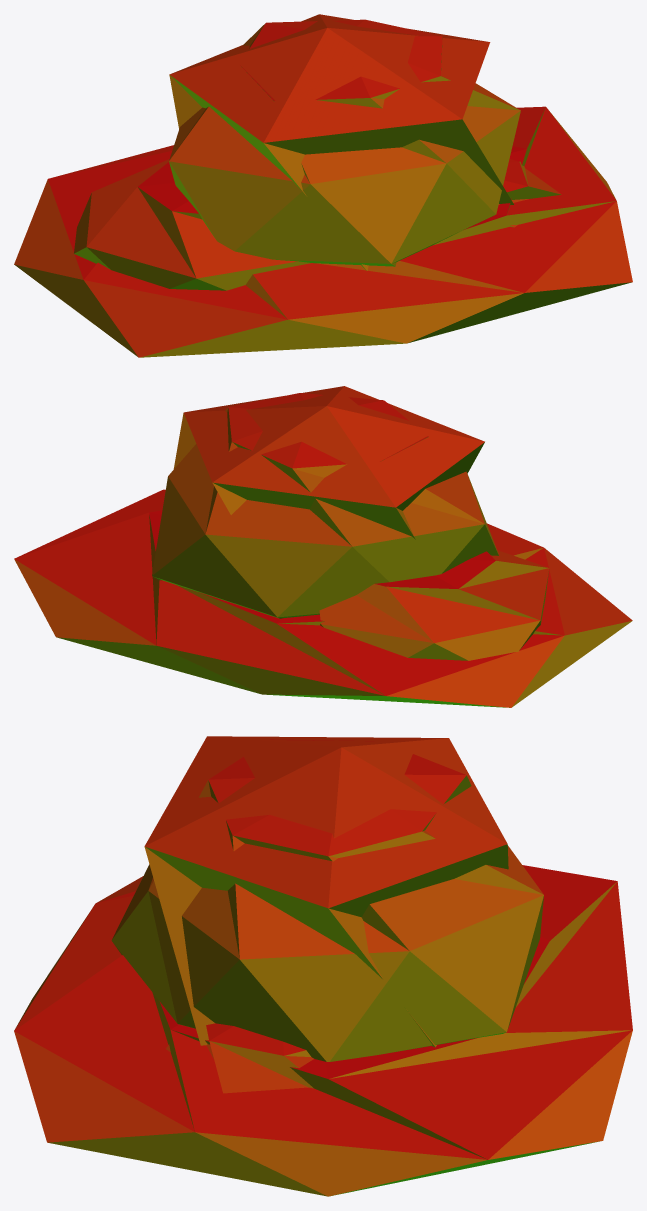
Rendered from shell.glb.
3 renders of one model, top to bottom at view 1: azimuth 30°, elevation 25°; view 2: azimuth 150°, elevation 25°; view 3: azimuth 270°, elevation 25°, orthographic. The views are drawn at different scales.
Parts seen in each view (by area): view 1: v1, v0, v2, v3; view 2: v1, v0, v2, v3; view 3: v1, v0, v2, v3.
Part boxes in pixels (left/top/right/bottom): v1: left=14, top=106, right=632, bottom=357; v0: left=169, top=19, right=520, bottom=266; v2: left=169, top=14, right=513, bottom=270; v3: left=74, top=159, right=561, bottom=290; v1: left=14, top=489, right=632, bottom=707; v0: left=152, top=393, right=498, bottom=618; v2: left=173, top=386, right=484, bottom=539; v3: left=319, top=550, right=549, bottom=660; v1: left=14, top=865, right=632, bottom=1196; v0: left=111, top=739, right=543, bottom=1061; v2: left=144, top=736, right=508, bottom=1047; v3: left=166, top=1023, right=313, bottom=1093.
Size of the model in its own units: 22.49 by 10.12 by 17.68.
